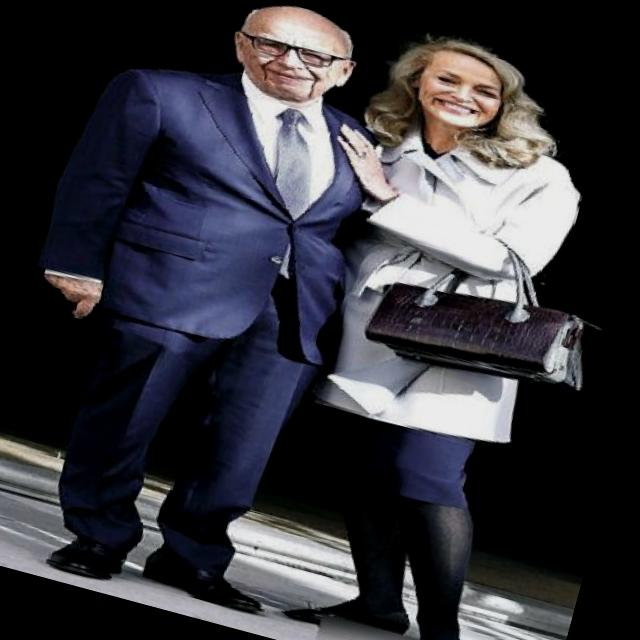Person: (0, 0, 455, 640), (215, 10, 640, 640)
